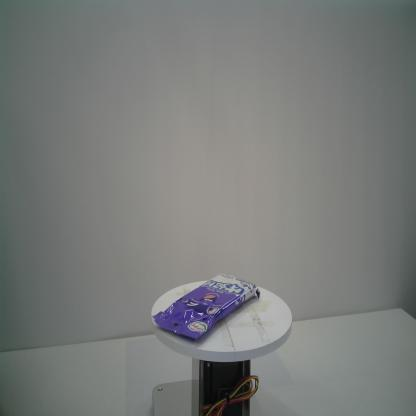Candy: (151, 273, 261, 339)
